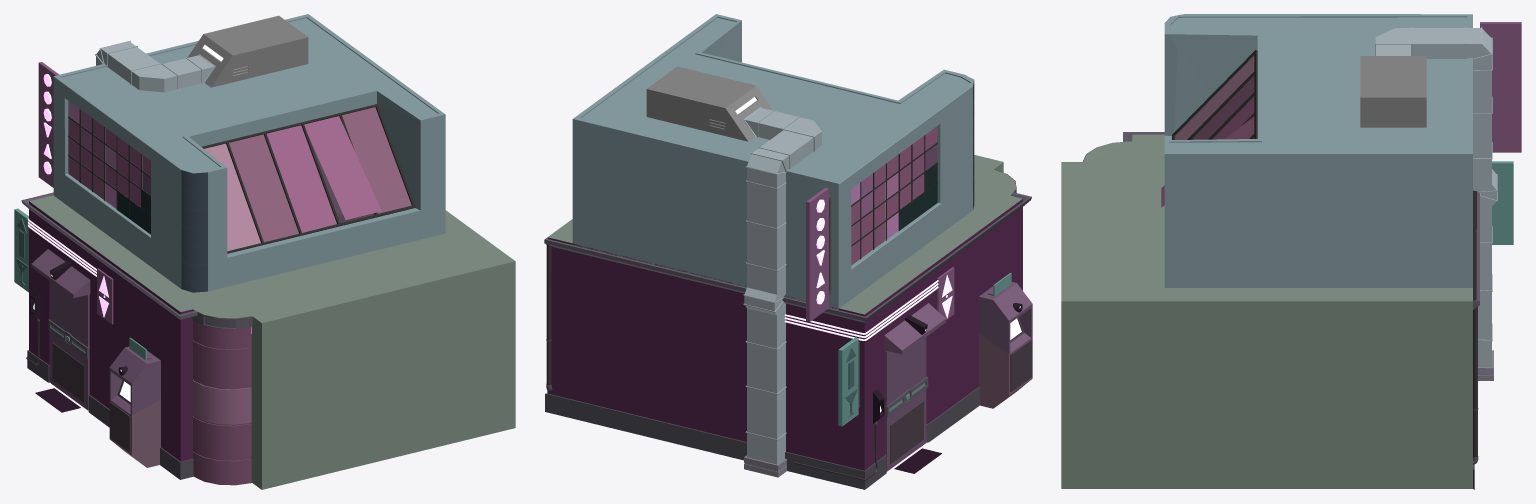
File: CPBuild.fbx
3 renders of one model, left to right at view 1: azimuth 30°, elevation 25°; view 2: azimuth 150°, elevation 25°; view 3: azimuth 270°, elevation 25°, orthographic. The views are drawn at different scales.
Parts seen in each view (by area): view 1: Cube.008; view 2: Cube.008; view 3: Cube.008.
Part boxes in pixels (left/top/right/bottom): Cube.008: left=14, top=14, right=515, bottom=489; Cube.008: left=544, top=14, right=1032, bottom=489; Cube.008: left=1061, top=14, right=1521, bottom=489.
Bounding box in the file's own units: 3471 × 3089 × 3670.
